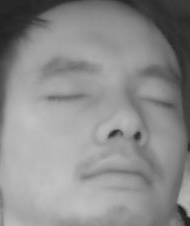blink: (138, 94, 176, 115), (45, 89, 84, 108)
mouth: (81, 148, 154, 193)
